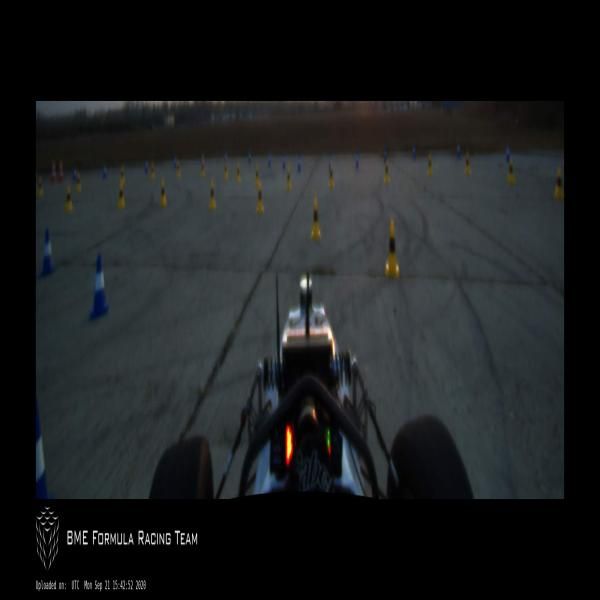blue_cone: (36, 391, 58, 498), (92, 251, 108, 311), (40, 230, 55, 276), (102, 162, 107, 180), (144, 157, 149, 175), (328, 152, 332, 171), (356, 150, 360, 168), (297, 155, 301, 172), (506, 146, 510, 162), (457, 144, 461, 160), (282, 153, 286, 168), (268, 154, 271, 167), (412, 146, 415, 158), (384, 146, 386, 163), (248, 153, 251, 164)
yellow_cone: (386, 218, 401, 275), (310, 198, 321, 238), (555, 169, 564, 200), (117, 179, 125, 209), (210, 182, 216, 210), (66, 183, 72, 211), (258, 185, 264, 212), (508, 159, 514, 184), (328, 165, 334, 188), (427, 154, 433, 176), (384, 160, 390, 182), (161, 182, 166, 208), (465, 153, 471, 174), (38, 173, 43, 196), (286, 167, 291, 190), (76, 172, 81, 193), (120, 168, 125, 185), (255, 166, 259, 187), (200, 161, 205, 177), (224, 160, 228, 180), (236, 162, 240, 182), (151, 162, 155, 180), (176, 163, 180, 177)
